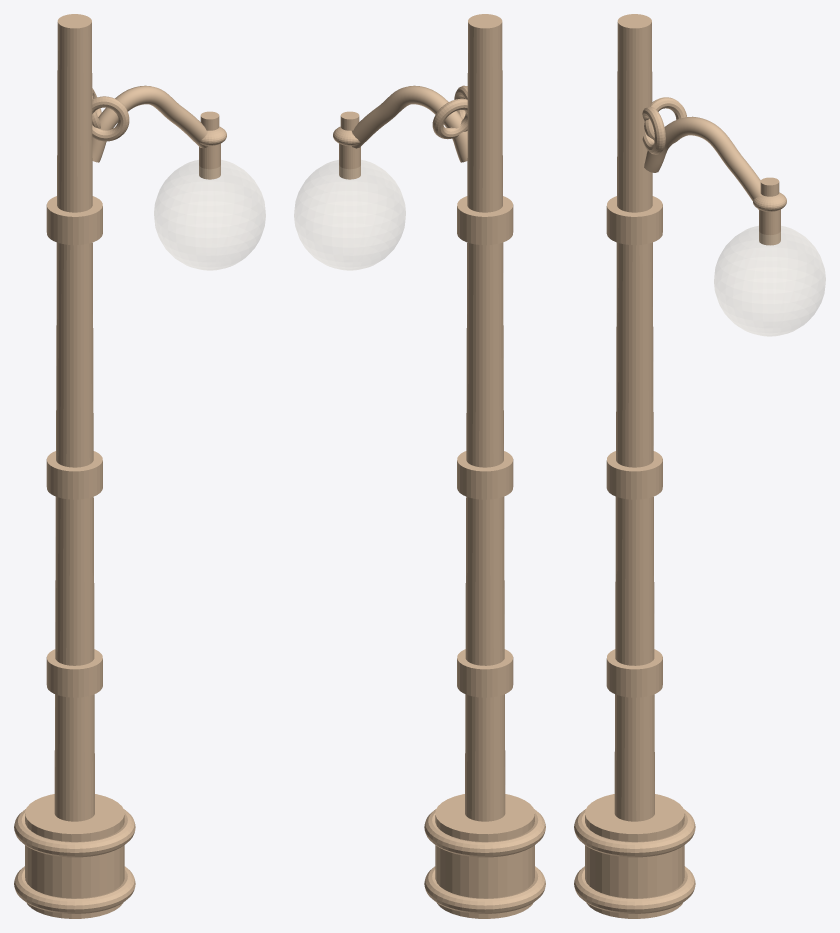
3 views of the same model, side by side, from view 1: azimuth 30°, elevation 25°; view 2: azimuth 150°, elevation 25°; view 3: azimuth 330°, elevation 25° (orthographic).
Visible parts, largest first — view 1: object 1, object 9, Torus.001, Torus, Cylinder.002, Cylinder.001, Cylinder, Torus.003; view 2: object 1, object 9, Torus.001, Torus, Cylinder.002, Cylinder.001, Cylinder, Torus.002; view 3: object 1, object 9, Torus.001, Torus, Cylinder.002, Cylinder.001, Cylinder, Torus.003, Torus.002.
Part boxes in pixels (bbox=[...]): object 1: bbox=[25, 14, 226, 918]; object 9: bbox=[154, 160, 265, 270]; Torus.001: bbox=[14, 809, 135, 857]; Torus: bbox=[14, 866, 135, 913]; Cylinder.002: bbox=[46, 196, 102, 245]; Cylinder.001: bbox=[46, 451, 102, 499]; Cylinder: bbox=[46, 649, 102, 697]; Torus.003: bbox=[92, 96, 129, 141]; object 1: bbox=[333, 14, 534, 918]; object 9: bbox=[294, 160, 405, 270]; Torus.001: bbox=[424, 809, 545, 857]; Torus: bbox=[424, 866, 545, 913]; Cylinder.002: bbox=[457, 196, 513, 245]; Cylinder.001: bbox=[457, 451, 513, 499]; Cylinder: bbox=[457, 649, 513, 697]; Torus.002: bbox=[432, 98, 467, 139]; object 1: bbox=[585, 14, 786, 918]; object 9: bbox=[714, 226, 825, 336]; Torus.001: bbox=[574, 809, 695, 857]; Torus: bbox=[574, 866, 695, 913]; Cylinder.002: bbox=[606, 196, 662, 245]; Cylinder.001: bbox=[606, 451, 662, 499]; Cylinder: bbox=[606, 649, 662, 697]; Torus.003: bbox=[642, 107, 665, 154]; Torus.002: bbox=[644, 97, 686, 142].
Bounding box in the file's own units: 0.875 × 3.1 × 0.3899.
